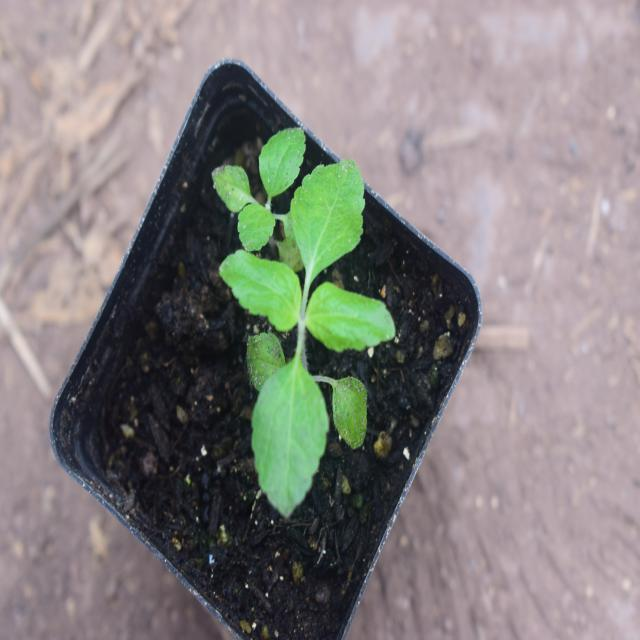billygoat_weed: (227, 160, 388, 512)
